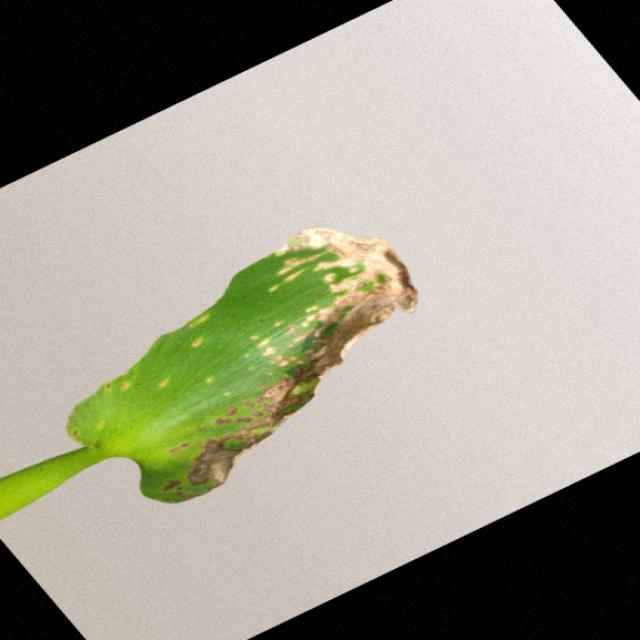daun berpenyakit bercak: (0, 228, 416, 517)
